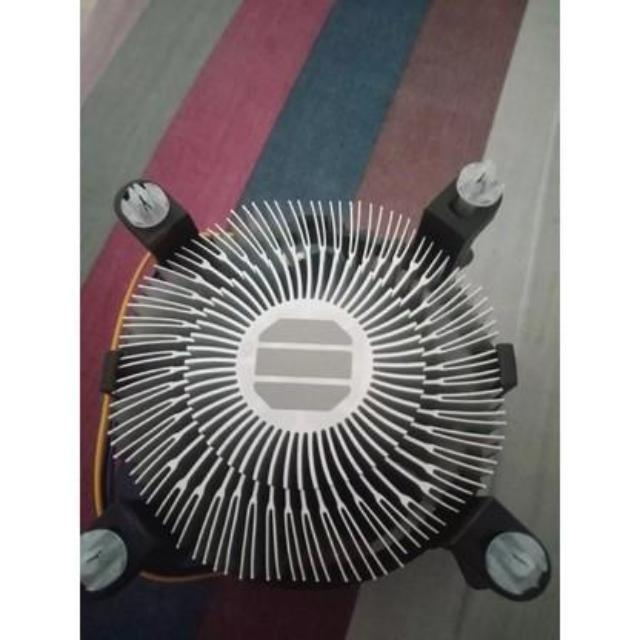CPU_Fan: (92, 192, 540, 592)
